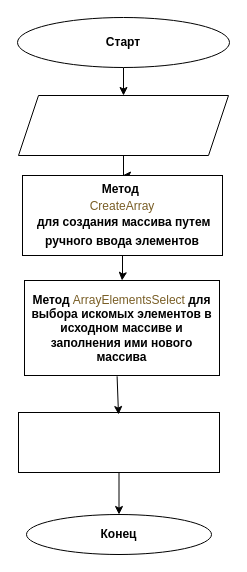
Some shapes in this 247 by 572 pixel diagram are drawn without their labels. The shapes that lost their labels are listed below. From the top down, each one's box as (x1, y1, x2, y2) in pixels, then its label:
(18, 94, 228, 156): Задание размера исходного массива
(18, 412, 220, 472): Метод ShowArray для вывода массивов на экран
